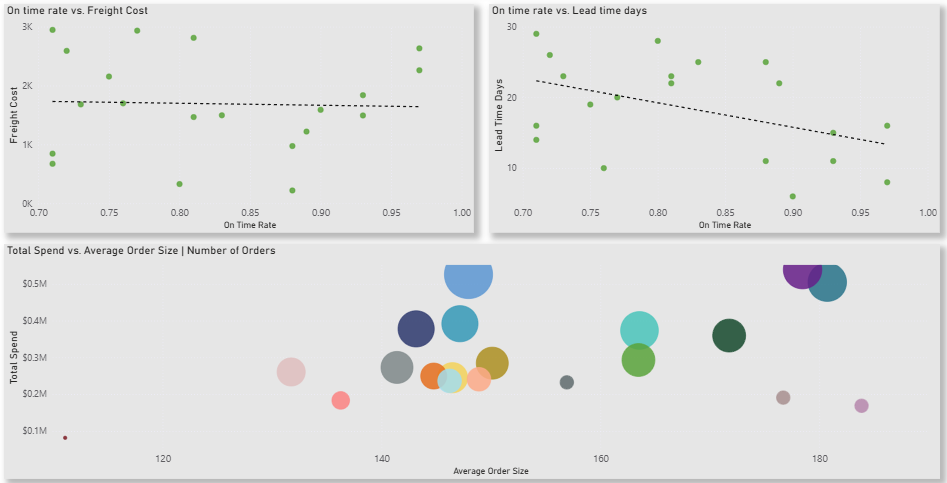

The dashboard page shown, as its layout file describes it:
{"tool":"powerbi","page":{"name":"Correlation Analysis","canvas":[1550,800],"ordinal":2},"visuals":[{"type":"scatterChart","title":"On time rate vs. Freight Cost","fields":{"X":["suppliers.on_time_rate"],"Y":["Sum(suppliers.freight_cost)"]},"box":[11.4,13,764.2,372.4],"z":0},{"type":"scatterChart","title":"On time rate vs. Lead time days","fields":{"X":["suppliers.on_time_rate"],"Y":["Sum(suppliers.lead_time_days)"]},"box":[800,13,733.3,372.4],"z":1000},{"type":"scatterChart","title":"Total Spend vs. Average Order Size | Number of Orders","fields":{"Category":["Dim_Supplier.supplier_name","Dim_Product_Category.category"],"X":["Fact_Purchase_Order.Average Order Size"],"Y":["Fact_Purchase_Order.Total Spend"],"Size":["Fact_Purchase_Order.Number of Orders"],"Series":["Dim_Supplier.supplier_name"]},"box":[11.4,403.3,1522,382.1],"z":2000}]}

Visuals, with their boxes in screenshot pixels (x1, y1, x2, y2), scaled from the page's 1550x800 canvas onto the 947x483 screenshot:
"On time rate vs. Freight Cost" scatterChart: crop(7, 8, 474, 233)
"On time rate vs. Lead time days" scatterChart: crop(489, 8, 937, 233)
"Total Spend vs. Average Order Size | Number of Orders" scatterChart: crop(7, 243, 937, 474)
